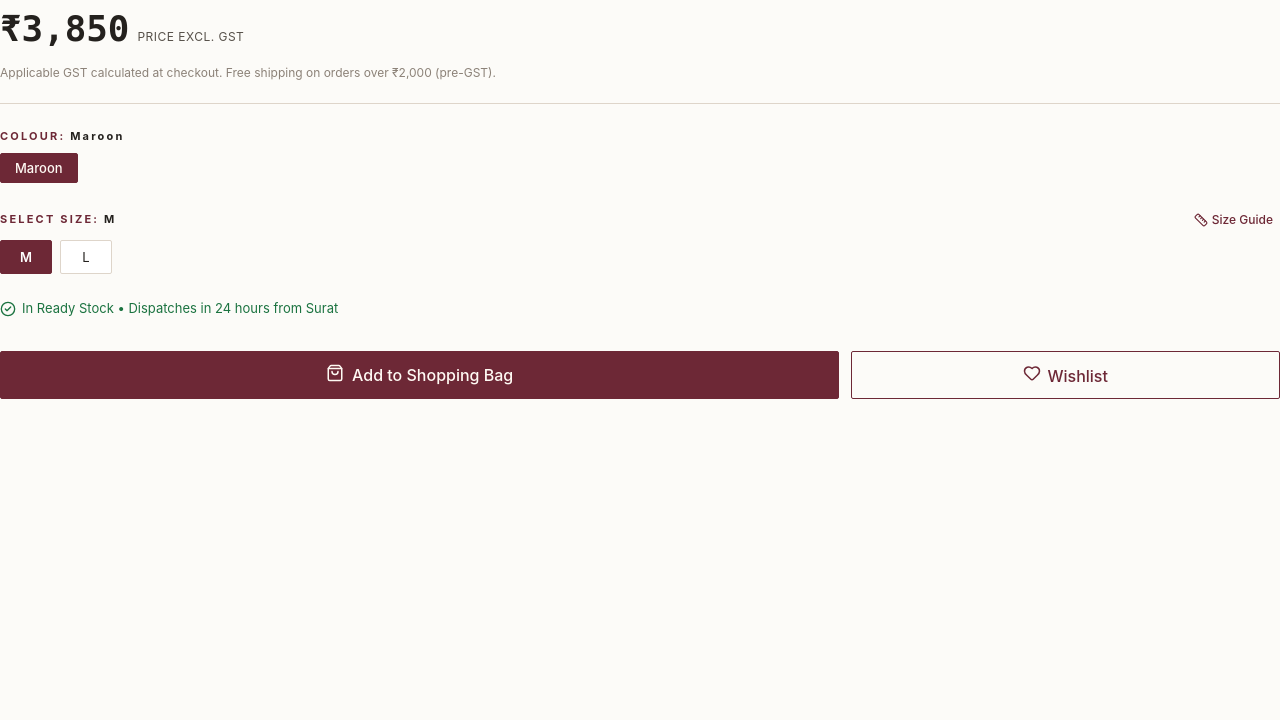
Component 12 — Public Storefront & Catalog Browsing › VariantSelector & Live Inventory Stock › opens SizeChartModal when Size Guide button is clicked
The image size is (1280, 720).
Click the button "Size Guide" at (1233,220), box [1187,207,1279,232]
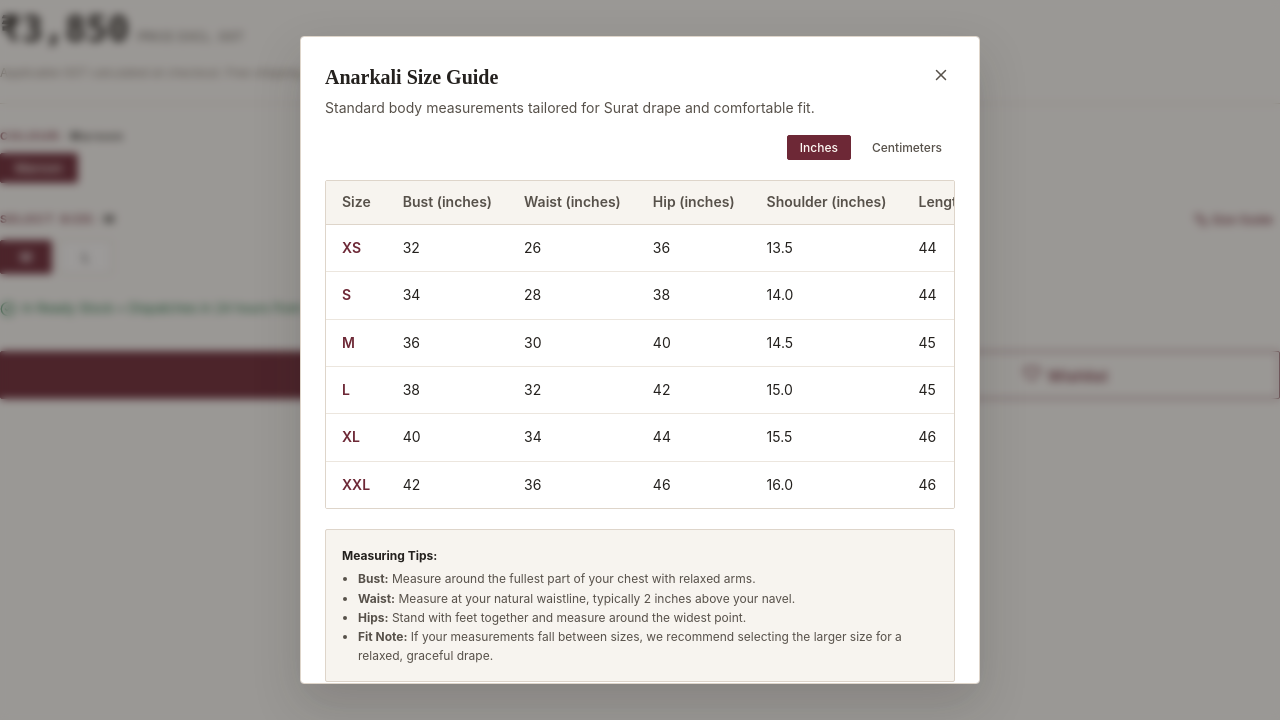
Expected: the heading "Anarkali Size Guide" is shown, [325,66,498,88]
Expected: the button "Centimeters" is shown, [859,135,955,160]
